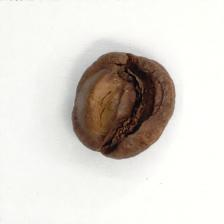NG: (88, 50, 167, 151)
